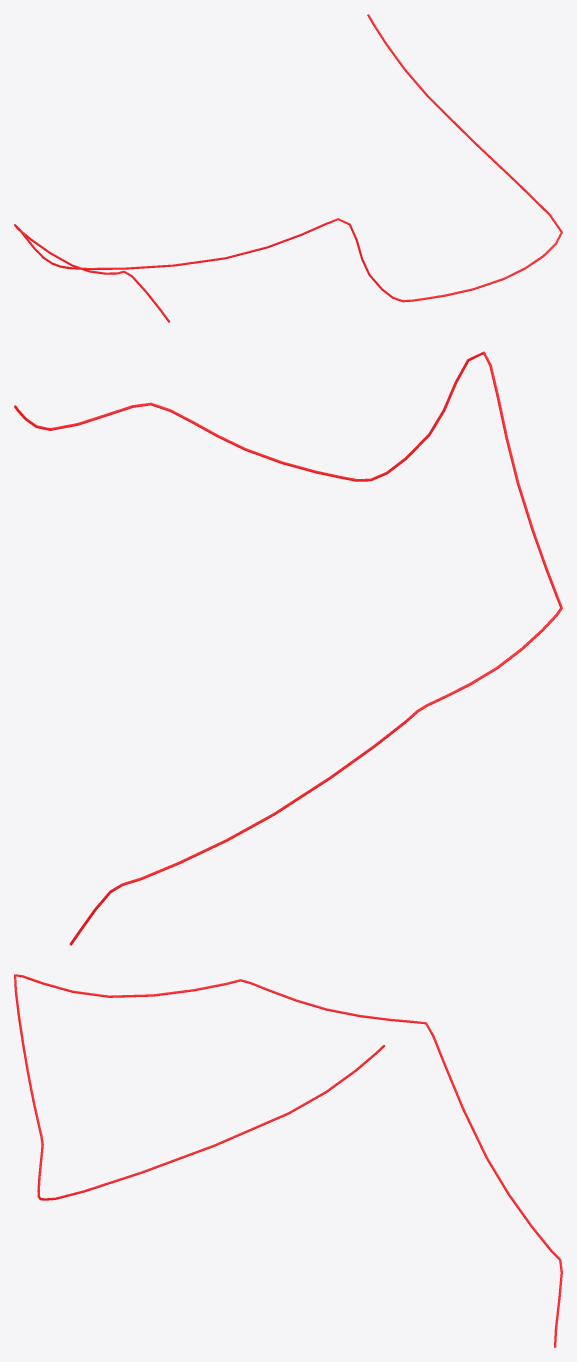
File: m_Rope06.fbx
3 renders of one model, top to bottom at view 1: azimuth 30°, elevation 25°; view 2: azimuth 150°, elevation 25°; view 3: azimuth 270°, elevation 25°, orthographic. The views are drawn at different scales.
Parts seen in each view (by area): view 1: m_Rope06; view 2: m_Rope06; view 3: m_Rope06.
Part boxes in pixels (x1,y1,x2,y2): m_Rope06: (14,14,562,322); m_Rope06: (14,351,562,945); m_Rope06: (14,974,562,1347).
Size of the model in its own units: 1285 by 1008 by 1361.
